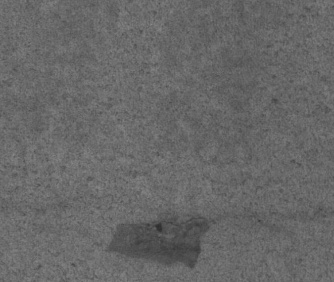剥落: (92, 204, 248, 271)
